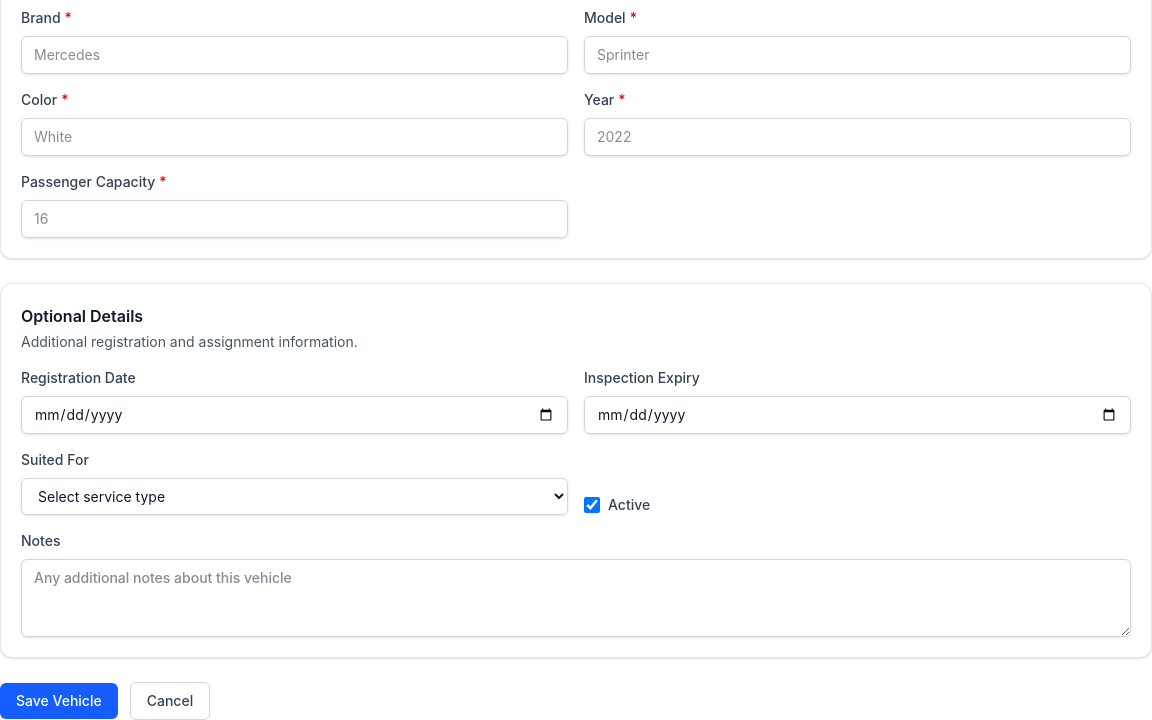
Test: VehicleForm › shows validation errors and blocks submit when required fields are missing
(page scrolled)
Click the button "Save Vehicle". click: (59, 701)
box: [0,683,118,719]
(page scrolled)
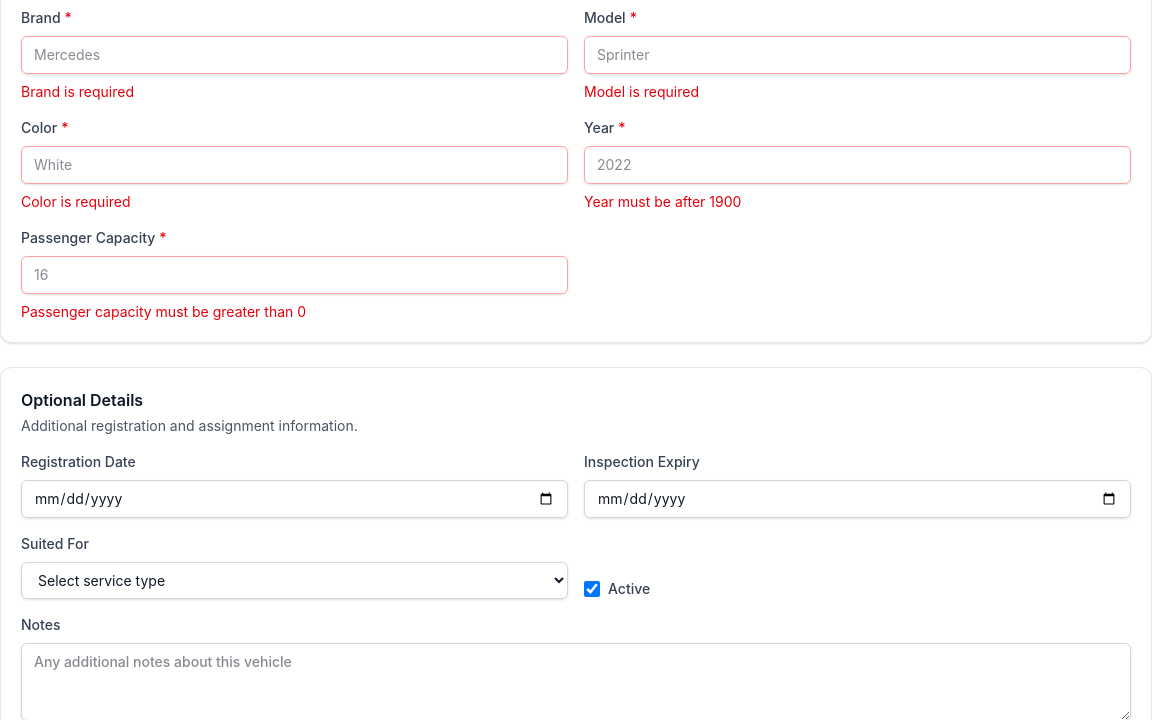
expect the text "Brand is required" is shown: met, box [21,83,134,100]
expect the text "Passenger capacity must be greater than 0" is shown: met, box [21,303,306,320]
